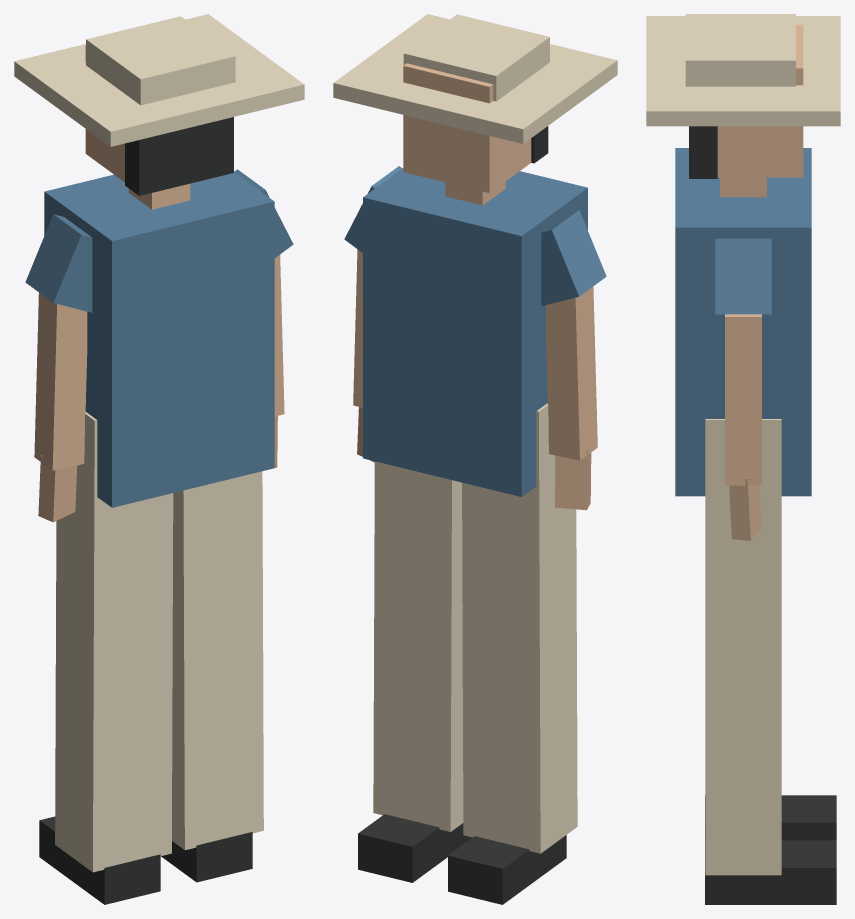
The model's file is pedestrian_04_far.glb.
3 renders of one model, left to right at view 1: azimuth 30°, elevation 25°; view 2: azimuth 150°, elevation 25°; view 3: azimuth 270°, elevation 25°, orthographic. The views are drawn at different scales.
Visible parts, largest first — view 1: pedestrian_04 crowd_trousers.001, pedestrian_04 crowd_shirt.001, pedestrian_04 crowd_accessory.001, pedestrian_04 crowd_skin.001, pedestrian_04 crowd_rubber.001; view 2: pedestrian_04 crowd_trousers.001, pedestrian_04 crowd_shirt.001, pedestrian_04 crowd_accessory.001, pedestrian_04 crowd_skin.001, pedestrian_04 crowd_rubber.001; view 3: pedestrian_04 crowd_shirt.001, pedestrian_04 crowd_trousers.001, pedestrian_04 crowd_accessory.001, pedestrian_04 crowd_skin.001, pedestrian_04 crowd_rubber.001.
Boxes of the visible parts, box(x1,y1,x2,y2) form: pedestrian_04 crowd_trousers.001: box(55, 412, 263, 872); pedestrian_04 crowd_shirt.001: box(25, 169, 293, 507); pedestrian_04 crowd_accessory.001: box(14, 14, 304, 146); pedestrian_04 crowd_skin.001: box(34, 45, 284, 522); pedestrian_04 crowd_rubber.001: box(39, 117, 252, 904); pedestrian_04 crowd_trousers.001: box(373, 403, 577, 853); pedestrian_04 crowd_shirt.001: box(344, 166, 606, 496); pedestrian_04 crowd_accessory.001: box(333, 14, 617, 143); pedestrian_04 crowd_skin.001: box(353, 63, 597, 510); pedestrian_04 crowd_rubber.001: box(358, 126, 566, 904); pedestrian_04 crowd_shirt.001: box(675, 148, 811, 496); pedestrian_04 crowd_trousers.001: box(705, 419, 781, 875); pedestrian_04 crowd_accessory.001: box(646, 14, 840, 126); pedestrian_04 crowd_skin.001: box(717, 24, 803, 540); pedestrian_04 crowd_rubber.001: box(689, 126, 836, 904).
Size of the model in its own units: 0.5004 by 1.64 by 0.3478.
